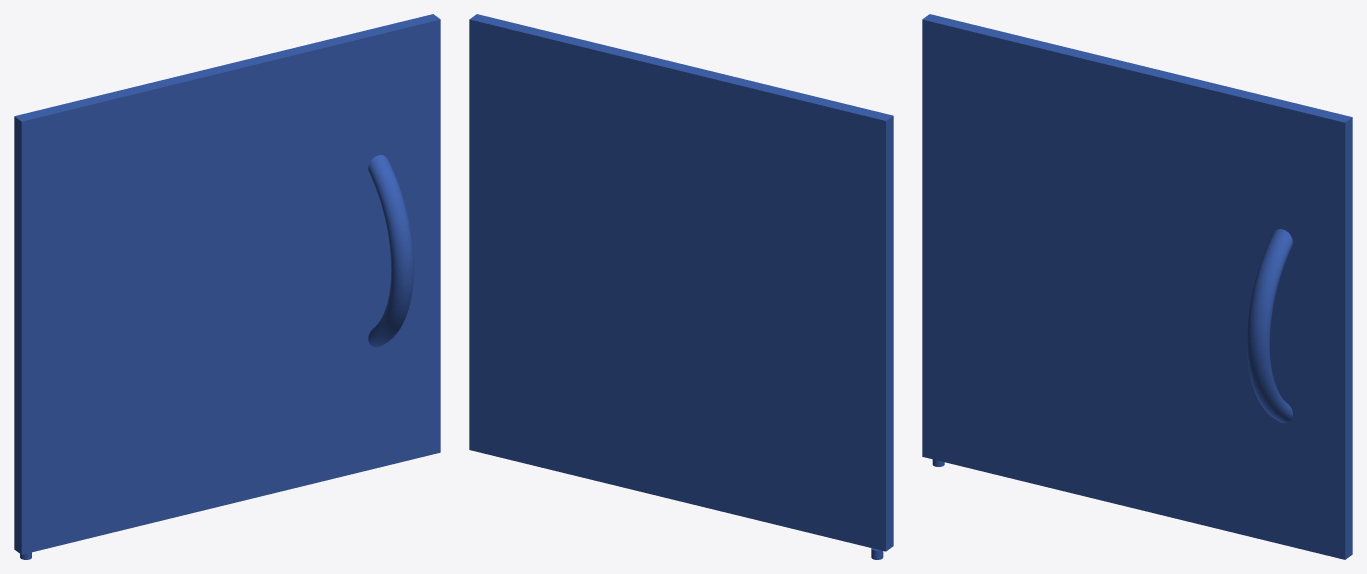
File: freezer_door.dae
3 views of the same model, side by side, from view 1: azimuth 30°, elevation 25°; view 2: azimuth 150°, elevation 25°; view 3: azimuth 330°, elevation 25° (orthographic).
Parts seen in each view (by area): view 1: node0; view 2: node0; view 3: node0.
Part boxes in pixels (x1=…): node0: x1=14, y1=14, x2=440, y2=559; node0: x1=469, y1=14, x2=893, y2=559; node0: x1=922, y1=14, x2=1352, y2=559.
Size of the model in its own units: 0.2572 by 0.0401 by 0.2596.
